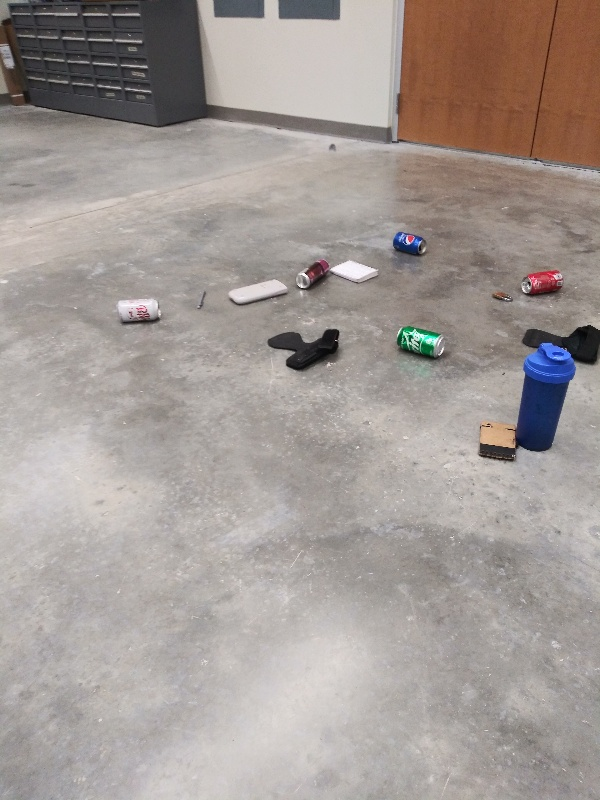can: (391, 321, 449, 362), (112, 294, 165, 325), (516, 268, 567, 298), (293, 255, 332, 292), (389, 228, 431, 257)
